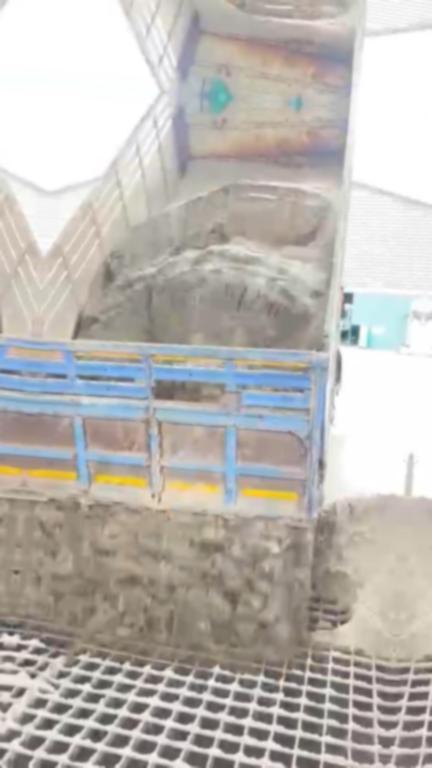sand: (14, 495, 408, 655), (79, 158, 344, 350)
